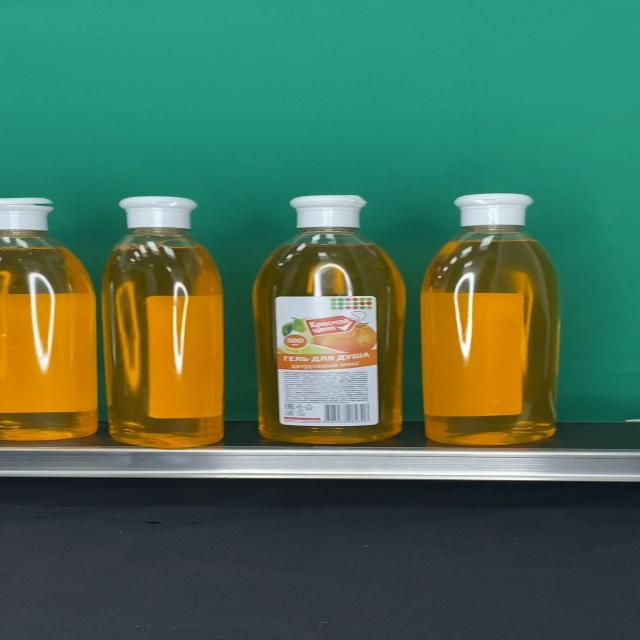Bottle: (252, 195, 406, 444), (420, 194, 560, 446), (101, 196, 225, 449)
Cap: (452, 194, 534, 228), (289, 195, 369, 228), (118, 197, 196, 230)
